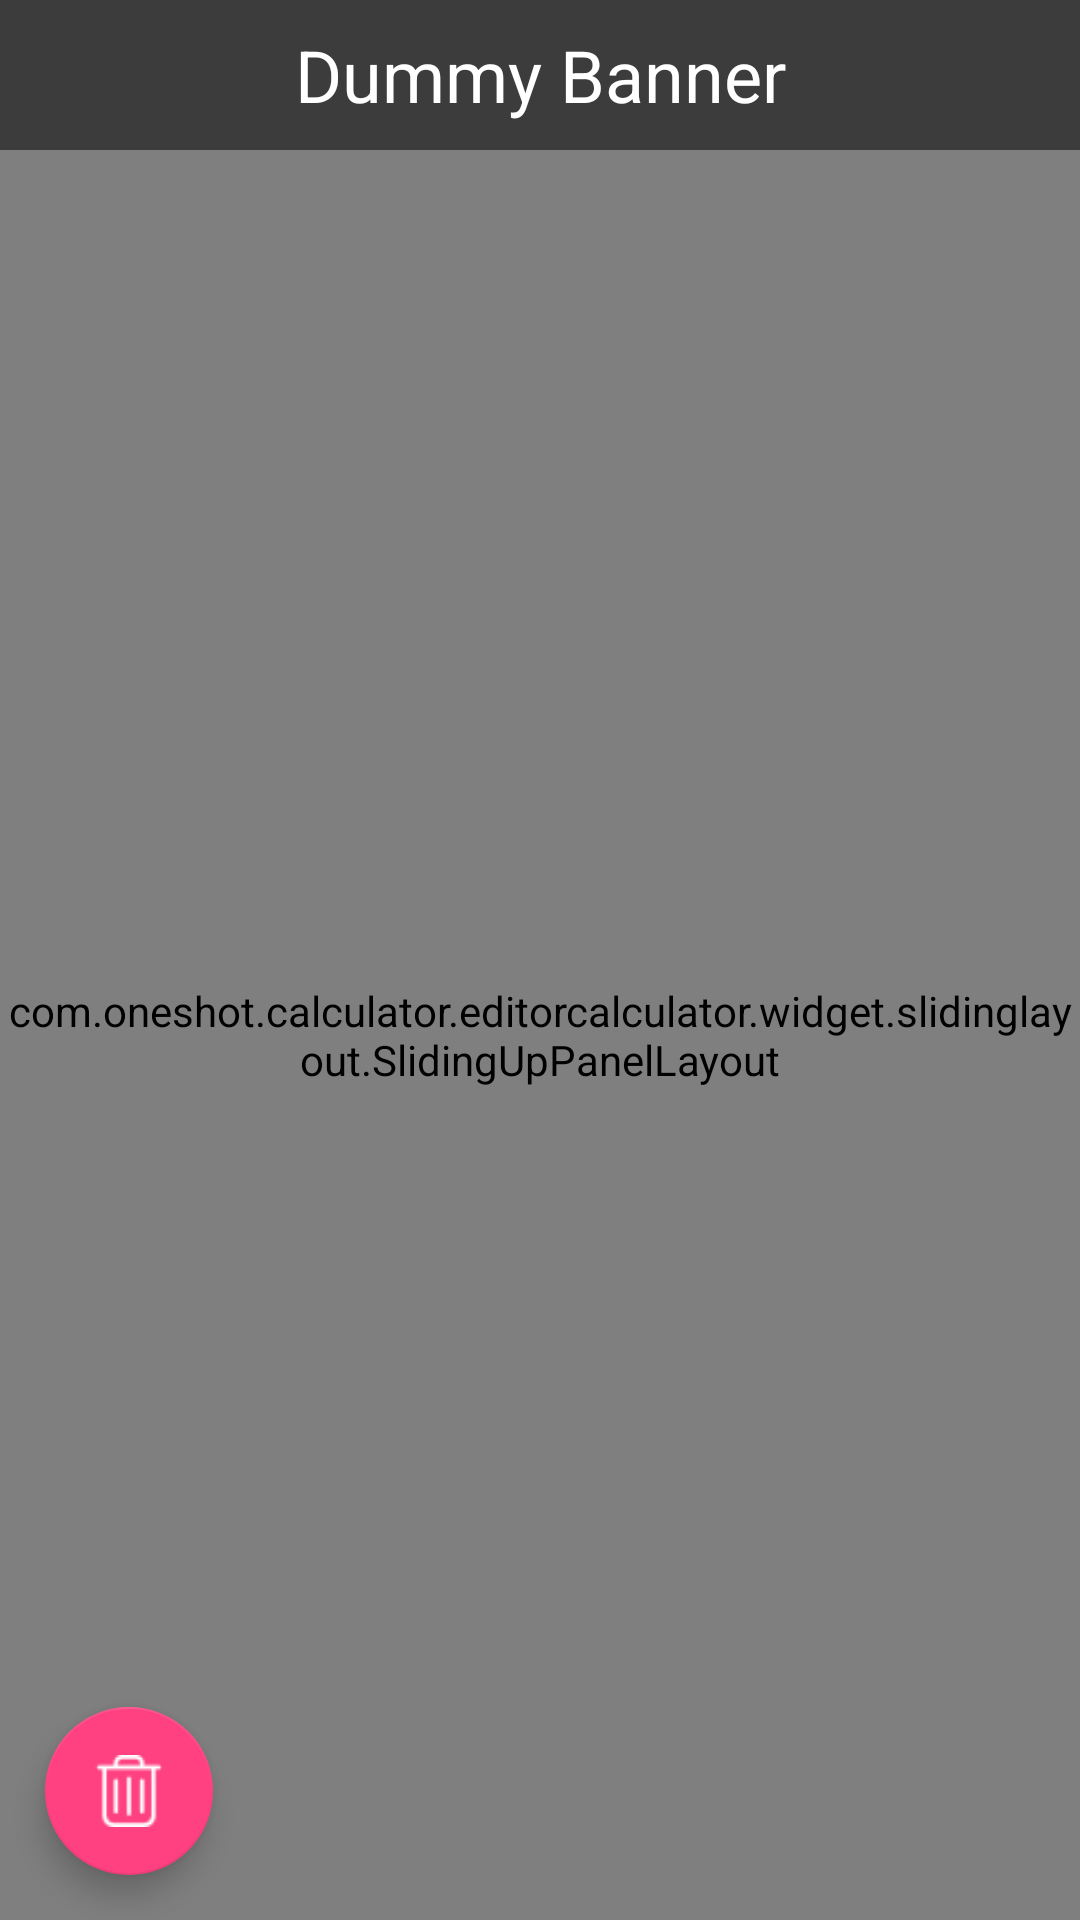

Icons on this 1080px x 1920px Android screen, each with its box as [x1,y1,x2,y2]:
remove: [45,1707,213,1875]
